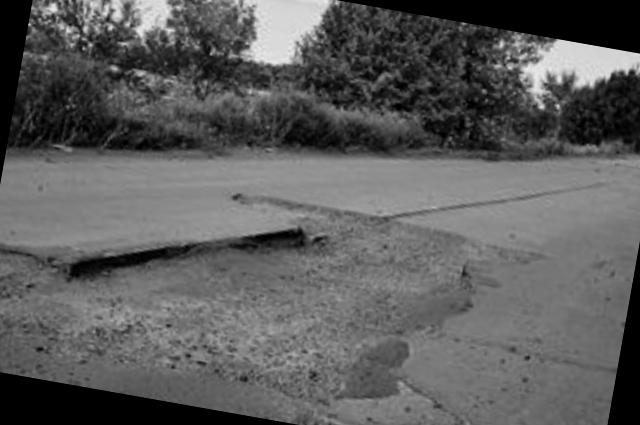Pothole: (0, 143, 537, 425)
